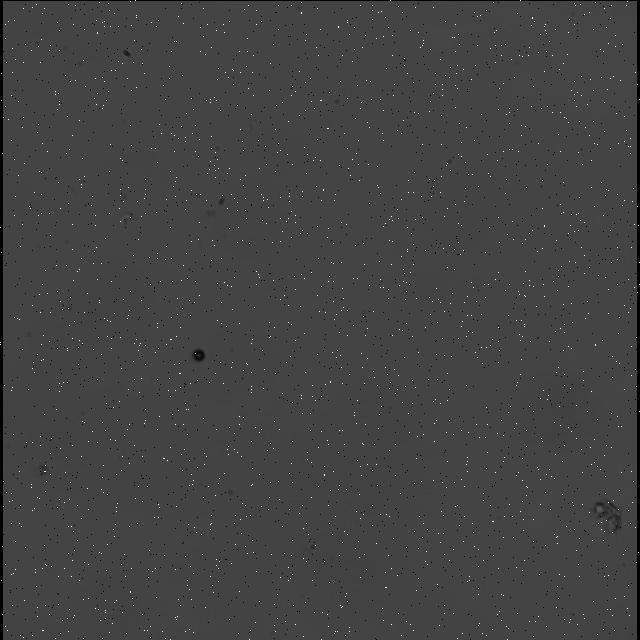microbeads: (190, 342, 212, 363)
